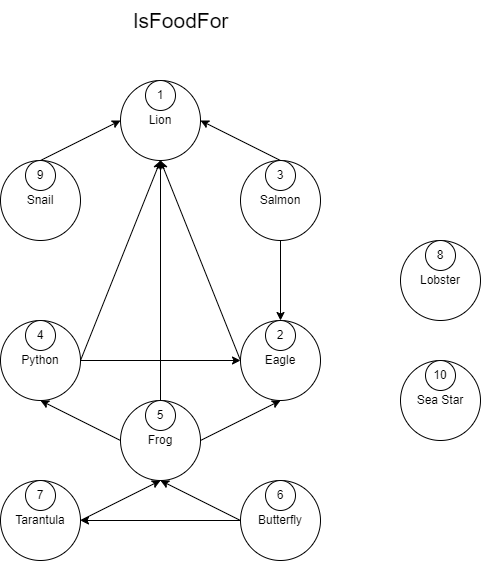

Layout of this report page (visuals, bound fields, positions):
{"tool":"powerbi","page":{"name":"IsFoodFor","canvas":[1280,720],"ordinal":0},"visuals":[{"type":"ForceGraph1449359463895","title":"Animal is food for...","fields":{"Source":["Animal.First"],"Target":["Animal.First2"],"SourceType":["Animal.First image name"],"TargetType":["Animal.Second image name"]},"box":[9.6,20.6,1254.2,671],"z":0}]}

Visuals, with their boxes on the page's 1280x720 design canvas (x1, y1, x2, y2). These are canvas units, not pixel positions in the 481x561 screenshot, which may show the page scaled, cropped or inside an application window:
"Animal is food for..." ForceGraph1449359463895: select_region(10, 21, 1264, 692)
